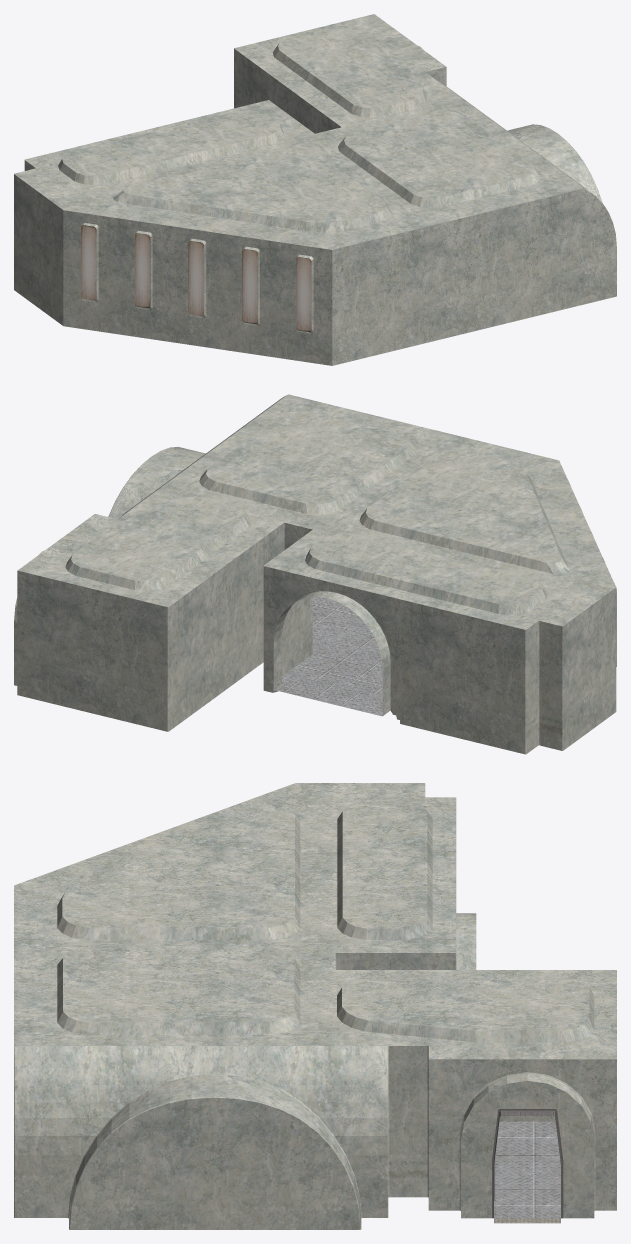
The model's file is thm_all_cantina_r12_private_room_mesh_r16.fbx.
3 renders of one model, top to bottom at view 1: azimuth 30°, elevation 25°; view 2: azimuth 150°, elevation 25°; view 3: azimuth 270°, elevation 25°, orthographic. The views are drawn at different scales.
Visible parts, largest first — view 1: mesh_node; view 2: mesh_node; view 3: mesh_node.
Part boxes in pixels (x1,y1,x2,y2): mesh_node: [14, 14, 616, 365]; mesh_node: [14, 394, 616, 754]; mesh_node: [14, 783, 616, 1229].
Bounding box in the file's own units: 17.39 × 4.41 × 15.
